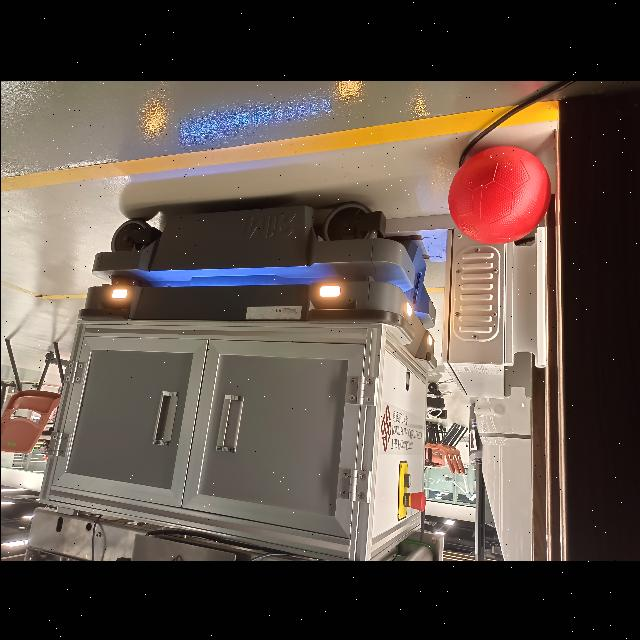R: (451, 146, 549, 242)
